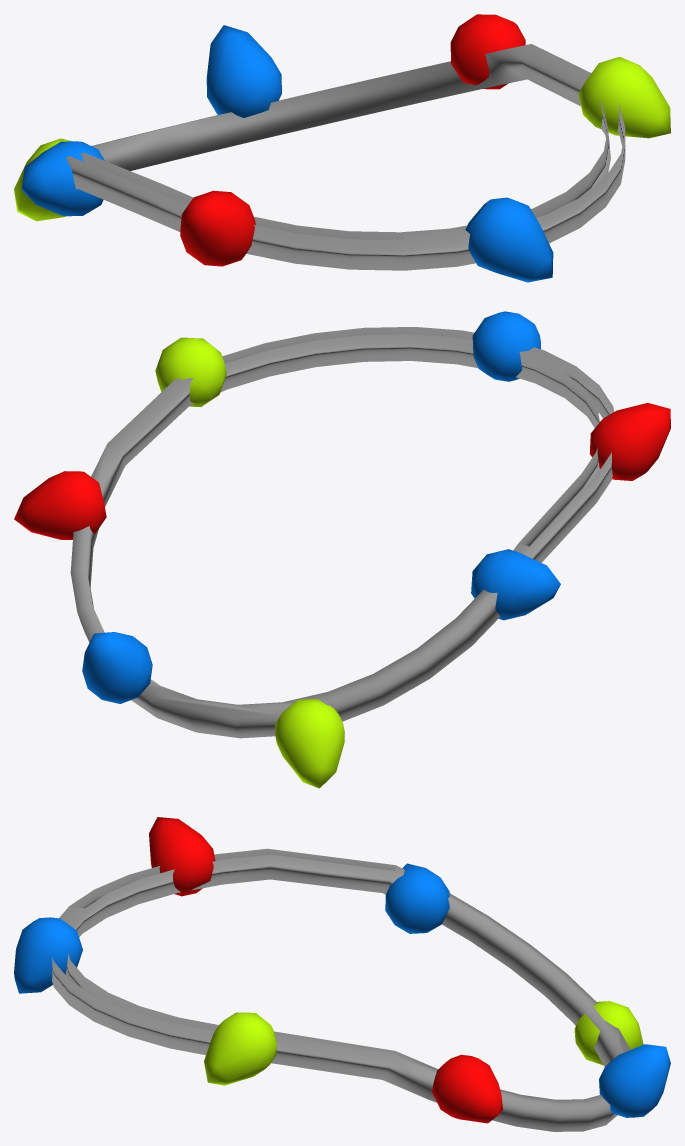
Rendered from item-light-necklace.glb.
3 views of the same model, one above another, from view 1: azimuth 30°, elevation 25°; view 2: azimuth 150°, elevation 25°; view 3: azimuth 270°, elevation 25° (orthographic). The views are drawn at different scales.
Bounding box in the file's own units: 0.2236 × 0.0938 × 0.2751.
